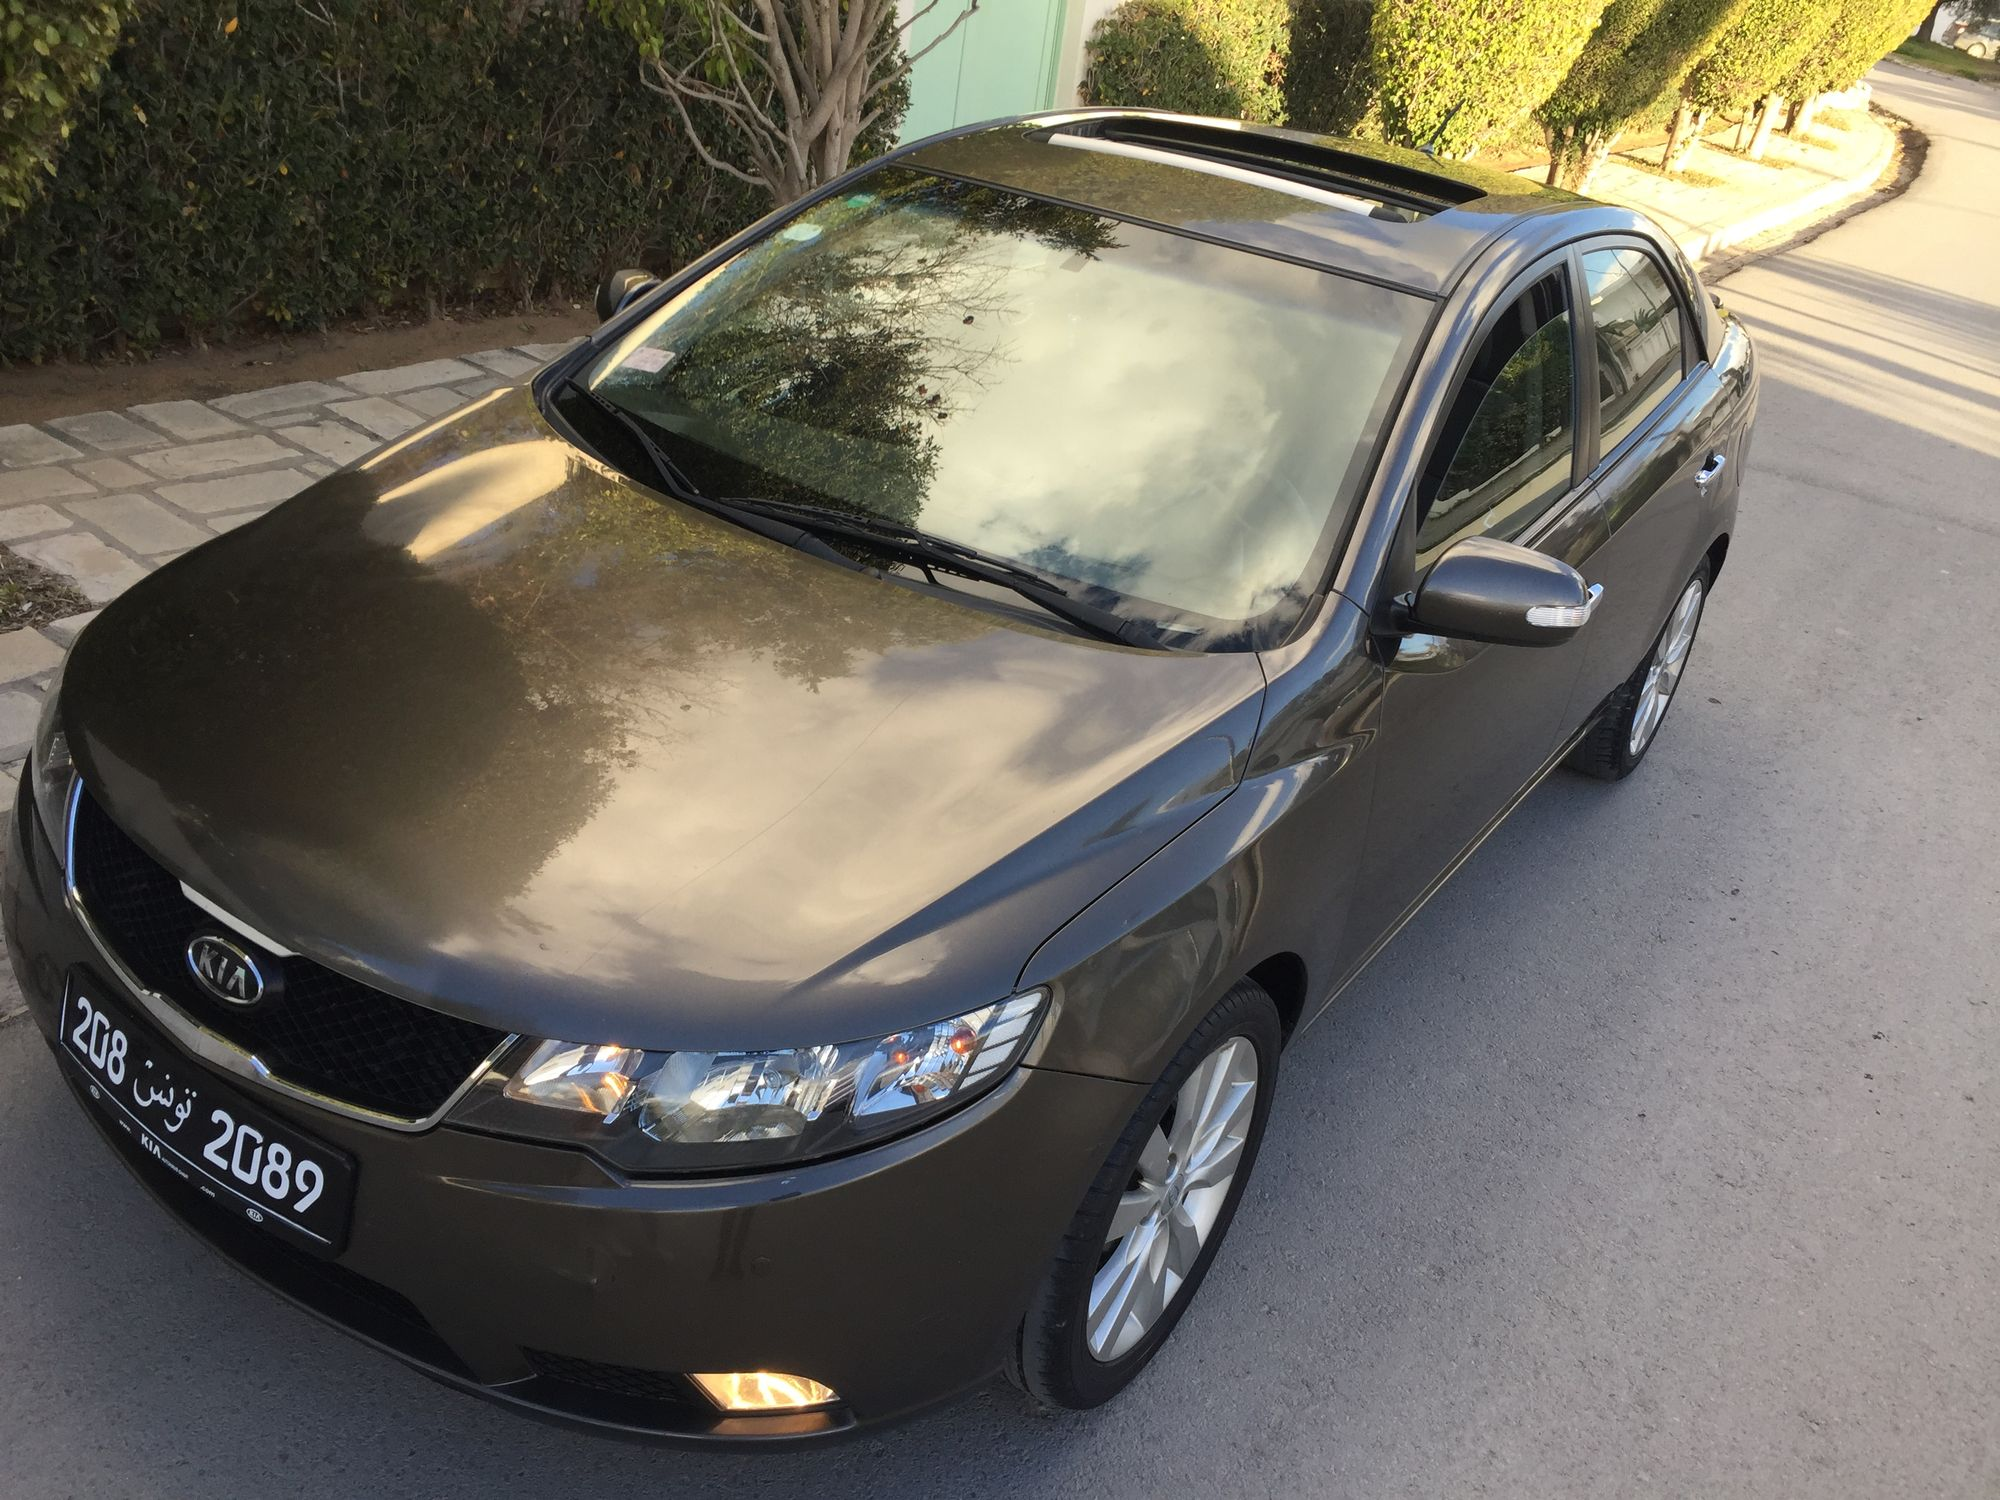LP: (57, 964, 338, 1240)
